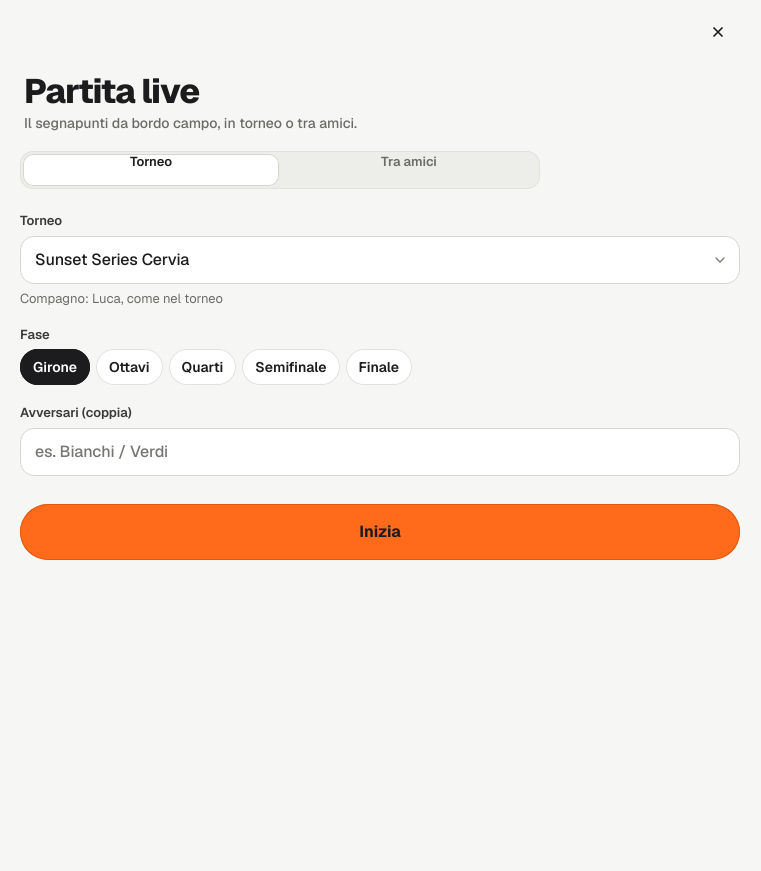
Test case: PartitaLive — impostazione › propone il torneo di default col suo compagno, la fase Girone, e «Inizia» apre il tabellone
Check: the heading "Partita live" is shown, box [24, 69, 199, 113]
Check: the button "Torneo" is shown, box [23, 154, 279, 186]
Click the button "Semifinale".
click(291, 367)  # box [242, 349, 340, 385]
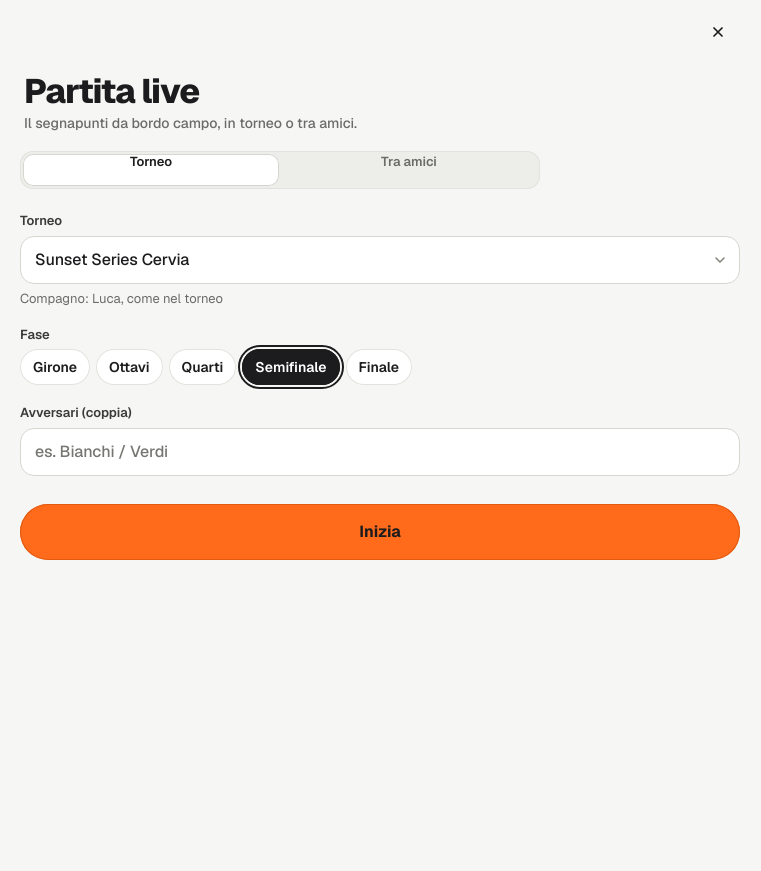
Type "Ferrari / Conti" into the field labelled "Avversari (coppia)".
click(380, 452); type("Ferrari / Conti")  # box [20, 428, 740, 476]
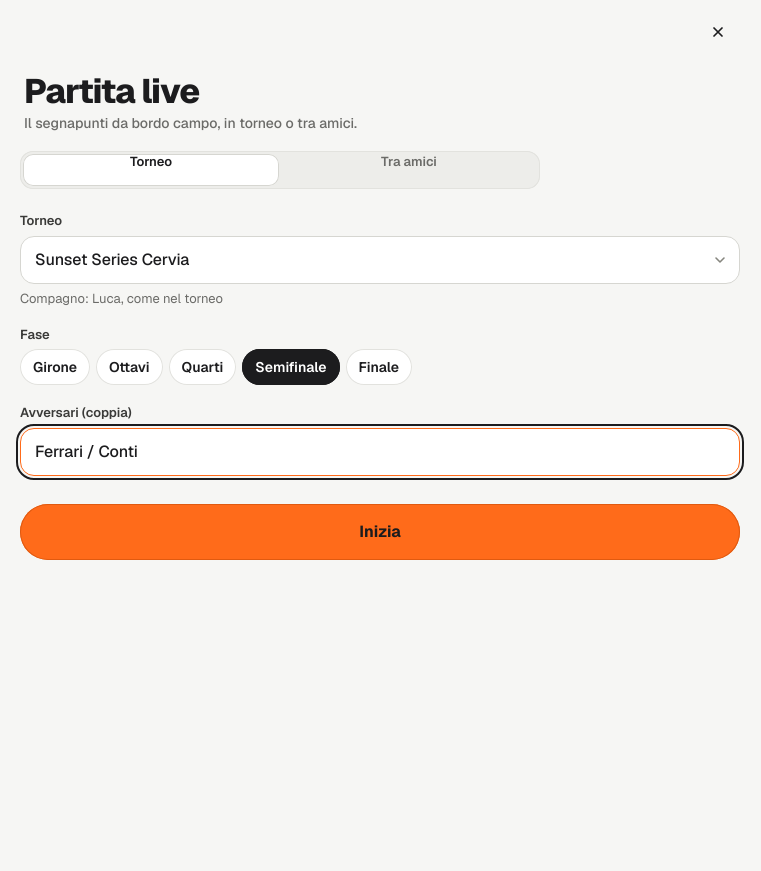
Click the button "Inizia".
click(380, 532)  # box [20, 504, 740, 560]
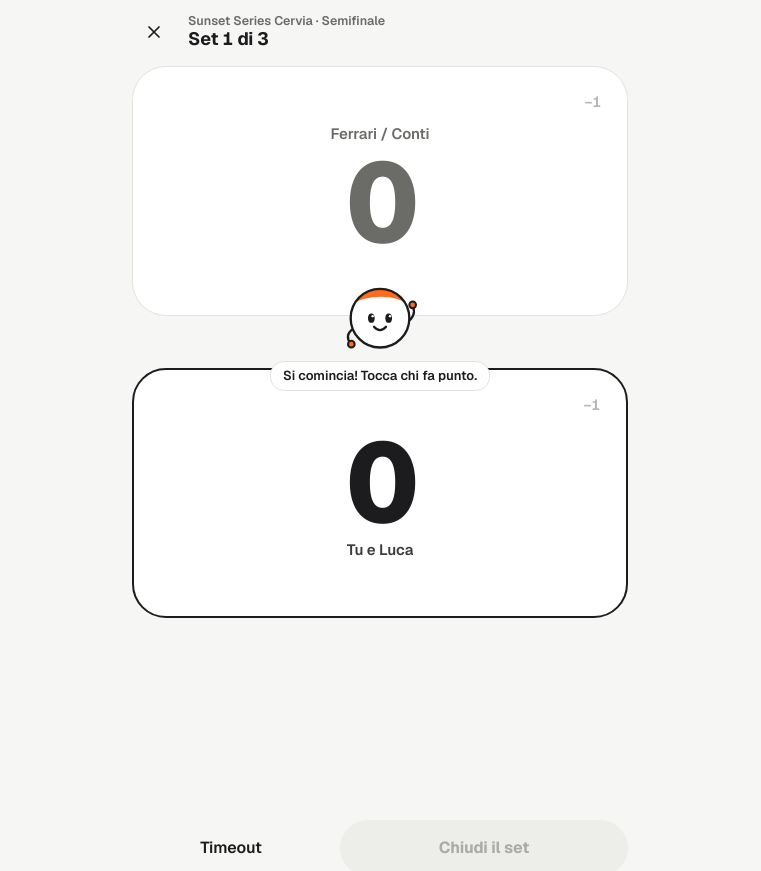
Check: the text "Sunset Series Cervia · Semifinale" is shown, box [188, 12, 385, 29]
Check: the text "Tu e Luca" is shown, box [347, 540, 413, 560]
